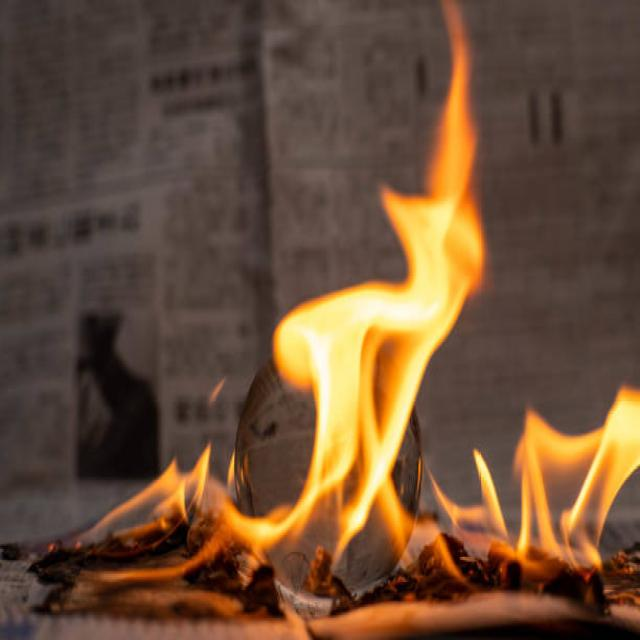fire: (383, 0, 489, 287), (273, 282, 471, 390), (221, 478, 384, 573), (73, 441, 213, 548), (560, 381, 640, 567), (513, 408, 604, 559), (305, 390, 420, 479), (472, 447, 510, 544), (426, 458, 470, 538)
